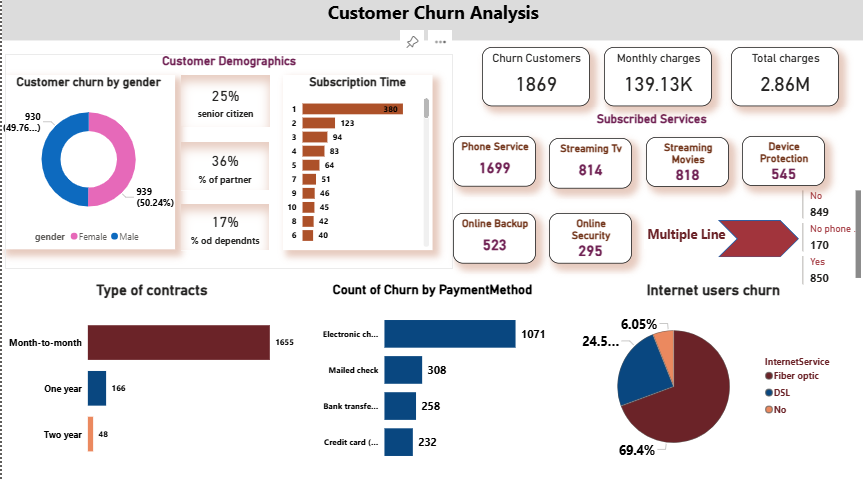

This screenshot's page, from the dashboard's own definition file:
{"tool":"powerbi","page":{"name":"Page 1","canvas":[1280,720],"ordinal":0},"visuals":[{"type":"card","title":"Churn Customers","fields":{"Values":["CountNonNull(WA_Fn-UseC_-Telco-Customer-Churn.Churn)"]},"box":[713.2,75.5,160.2,87.8],"z":1000},{"type":"textbox","box":[0,0,1280,66.2],"z":3000},{"type":"donutChart","title":"Customer churn by gender","fields":{"Category":["WA_Fn-UseC_-Telco-Customer-Churn.gender"],"Y":["CountNonNull(WA_Fn-UseC_-Telco-Customer-Churn.customerID)"]},"box":[0,117.1,257.2,258.8],"z":4000},{"type":"clusteredBarChart","fields":{"Category":["WA_Fn-UseC_-Telco-Customer-Churn.PaymentMethod"],"Y":["CountNonNull(WA_Fn-UseC_-Telco-Customer-Churn.Churn)"]},"box":[455.9,425.1,366.6,286.5],"z":5000},{"type":"clusteredBarChart","title":"Type of contracts","fields":{"Category":["WA_Fn-UseC_-Telco-Customer-Churn.Contract"],"Y":["CountNonNull(WA_Fn-UseC_-Telco-Customer-Churn.Churn)"]},"box":[4.6,425.1,435.9,286.5],"z":6000},{"type":"pieChart","title":"Internet users churn","fields":{"Category":["WA_Fn-UseC_-Telco-Customer-Churn.InternetService"],"Y":["CountNonNull(WA_Fn-UseC_-Telco-Customer-Churn.Churn)"]},"box":[856.4,425.1,398.9,286.5],"z":7000},{"type":"clusteredBarChart","title":"Subscription Time","fields":{"Y":["CountNonNull(WA_Fn-UseC_-Telco-Customer-Churn.Churn)"],"Category":["WA_Fn-UseC_-Telco-Customer-Churn.tenure"]},"box":[417.4,117.1,221.8,260.3],"z":8000},{"type":"card","title":"Senior Citizen %","fields":{"Values":["WA_Fn-UseC_-Telco-Customer-Churn.senior citizen"]},"box":[266.5,117.1,132.5,77],"z":9000},{"type":"card","title":"Phone Service","fields":{"Values":["CountNonNull(WA_Fn-UseC_-Telco-Customer-Churn.PhoneService)"]},"box":[670,207.9,123.2,75.5],"z":10000},{"type":"card","title":"Streaming Tv","fields":{"Values":["CountNonNull(WA_Fn-UseC_-Telco-Customer-Churn.StreamingTV)"]},"box":[811.7,211,123.2,75.5],"z":11000},{"type":"card","title":"Online Security","fields":{"Values":["CountNonNull(WA_Fn-UseC_-Telco-Customer-Churn.OnlineSecurity)"]},"box":[811.7,321.9,123.2,75.5],"z":12000},{"type":"card","title":"Online Backup","fields":{"Values":["CountNonNull(WA_Fn-UseC_-Telco-Customer-Churn.OnlineBackup)"]},"box":[670,321.9,123.2,75.5],"z":14000},{"type":"multiRowCard","fields":{"Values":["WA_Fn-UseC_-Telco-Customer-Churn.MultipleLines","WA_Fn-UseC_-Telco-Customer-Churn.customerID"]},"box":[1183,283.4,97,152.5],"z":15000},{"type":"card","title":"Partner %","fields":{"Values":["WA_Fn-UseC_-Telco-Customer-Churn.% of partner"]},"box":[266.5,217.2,130.9,72.4],"z":16000},{"type":"card","title":"Depends %","fields":{"Values":["WA_Fn-UseC_-Telco-Customer-Churn.% od dependnts"]},"box":[266.5,308.1,130.9,69.3],"z":17000},{"type":"textbox","box":[953.5,335.8,127.8,40],"z":18000},{"type":"shape","box":[1062.8,332.7,120.1,55.5],"z":19000},{"type":"card","title":"Total charges","fields":{"Values":["Sum(WA_Fn-UseC_-Telco-Customer-Churn.TotalCharges)"]},"box":[1082.8,75.5,160.2,87.8],"z":19001},{"type":"shape","title":"Demographics by Gender","box":[4.6,86.3,665.4,318.8],"z":19002},{"type":"card","title":"Streaming Movies","fields":{"Values":["CountNonNull(WA_Fn-UseC_-Telco-Customer-Churn.StreamingMovies)"]},"box":[956.5,209.5,123.2,73.9],"z":19003},{"type":"card","title":"Device Protection","fields":{"Values":["CountNonNull(WA_Fn-UseC_-Telco-Customer-Churn.DeviceProtection)"]},"box":[1098.2,207.9,123.2,73.9],"z":19004},{"type":"shape","title":"Subscribed Services","box":[648.5,172.5,631.5,224.9],"z":19005},{"type":"card","title":"Monthly charges","fields":{"Values":["Sum(WA_Fn-UseC_-Telco-Customer-Churn.MonthlyCharges)"]},"box":[893.4,75.5,160.2,87.8],"z":19007}]}

Visuals, with their boxes in screenshot pixels (x1, y1, x2, y2), scaled from the page's 1280x720 canvas onto the 863x481 screenshot:
"Churn Customers" card: 481/50/589/109
textbox: 0/0/862/44
"Customer churn by gender" donutChart: 0/78/173/251
clusteredBarChart - WA_Fn-UseC_-Telco-Customer-Churn.PaymentMethod x CountNonNull(WA_Fn-UseC_-Telco-Customer-Churn.Churn): 307/284/555/475
"Type of contracts" clusteredBarChart: 3/284/297/475
"Internet users churn" pieChart: 577/284/846/475
"Subscription Time" clusteredBarChart: 281/78/431/252
"Senior Citizen %" card: 180/78/269/130
"Phone Service" card: 452/139/535/189
"Streaming Tv" card: 547/141/630/191
"Online Security" card: 547/215/630/265
"Online Backup" card: 452/215/535/265
multiRowCard - WA_Fn-UseC_-Telco-Customer-Churn.MultipleLines x WA_Fn-UseC_-Telco-Customer-Churn.customerID: 798/189/862/291
"Partner %" card: 180/145/268/193
"Depends %" card: 180/206/268/252
textbox: 643/224/729/251
shape: 717/222/798/259
"Total charges" card: 730/50/838/109
"Demographics by Gender" shape: 3/58/452/271
"Streaming Movies" card: 645/140/728/189
"Device Protection" card: 740/139/823/188
"Subscribed Services" shape: 437/115/862/265
"Monthly charges" card: 602/50/710/109
